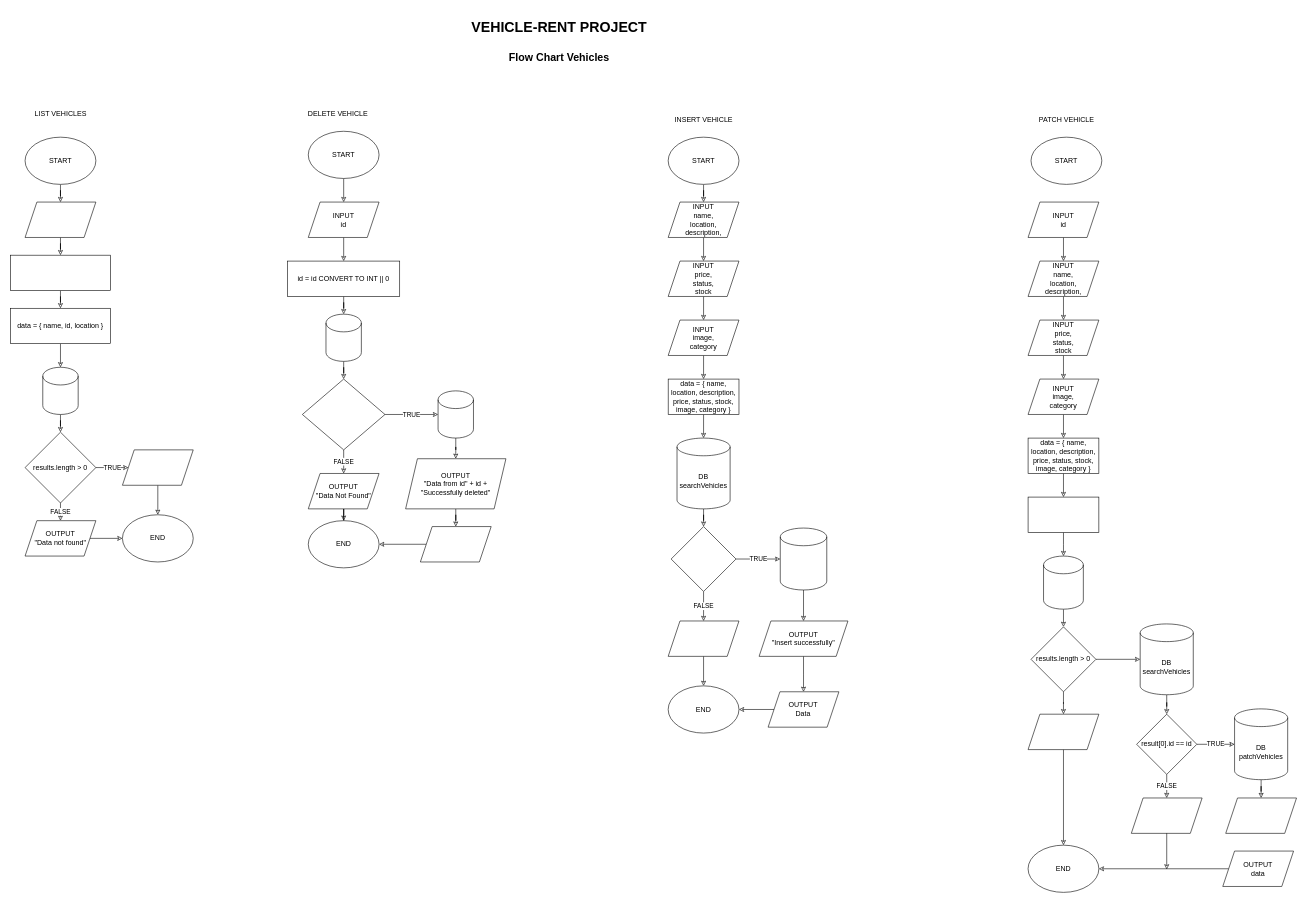
The diagram is 1307 pixels wide and 903 high, and some of its shapes have lost their labels. The centre of each missing label's shape, as x and y in pixels:
DB: [60,390]
DB delete id: [455,414]
DB find id: [343,337]
DB getVehicle: [1063,582]
DB postVehicle: [803,558]
id = id CONERT TO INT || 0: [1063,514]
INPUT name, id, location: [60,219]
name = name || '', id = id CONERT TO INT || '', location = location || '': [60,273]
OUPUT "Data has been updated": [1261,815]
OUTPUT " Data not found": [1063,732]
OUTPUT "Insert failed: [703,638]
OUTPUT "Updated failed: [1166,815]
OUTPUT result: [157,467]
OUTPUT result[0]: [455,544]
result.length <= 0: [703,558]
result.length > 0: [343,414]
